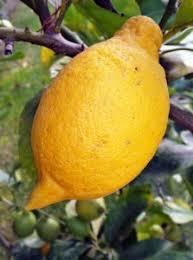lemon: (23, 14, 170, 210)
